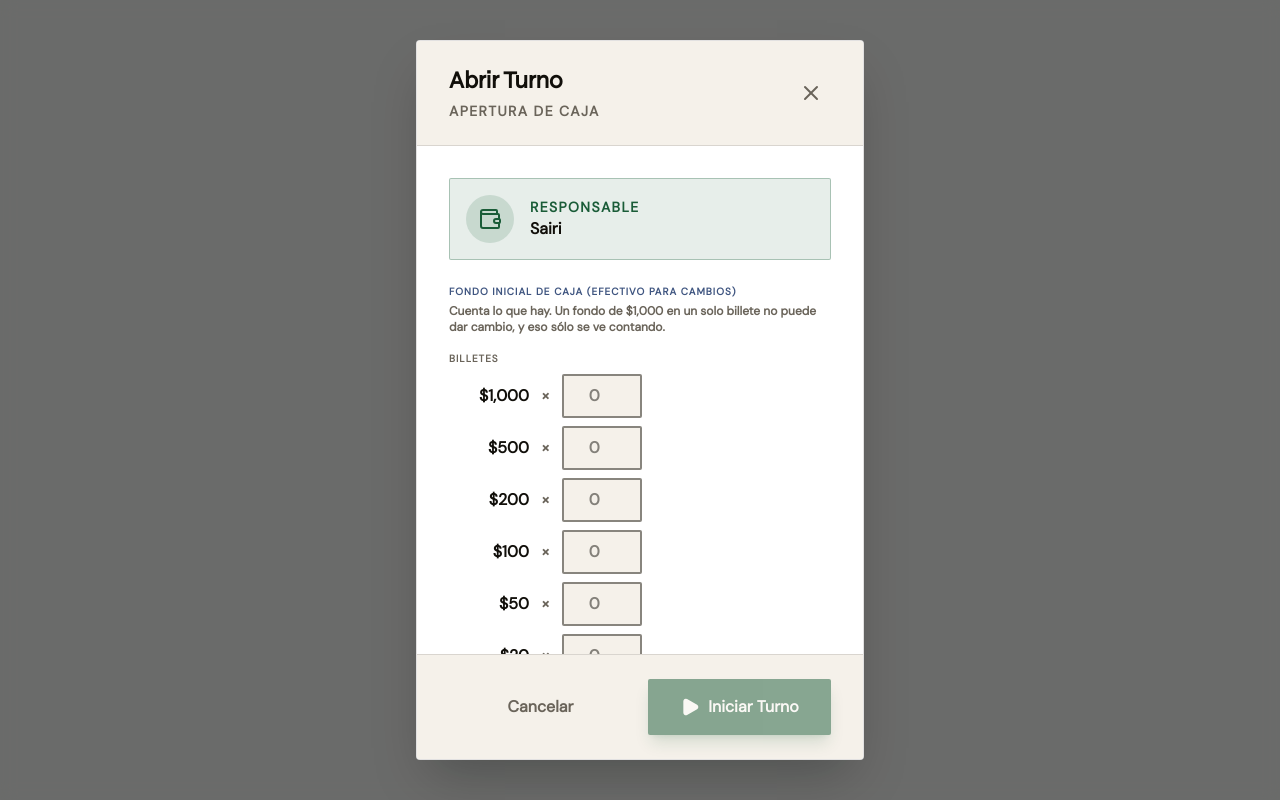
Scenario: AbrirTurnoModal · el fondo se cuenta › LA AFIRMACIÓN: guarda el conteo y el total derivado de él
The image size is (1280, 800).
Type "2" into the number field with placeholder "0" next to "$500".
click(602, 448); type("2")  # box [562,426,642,470]
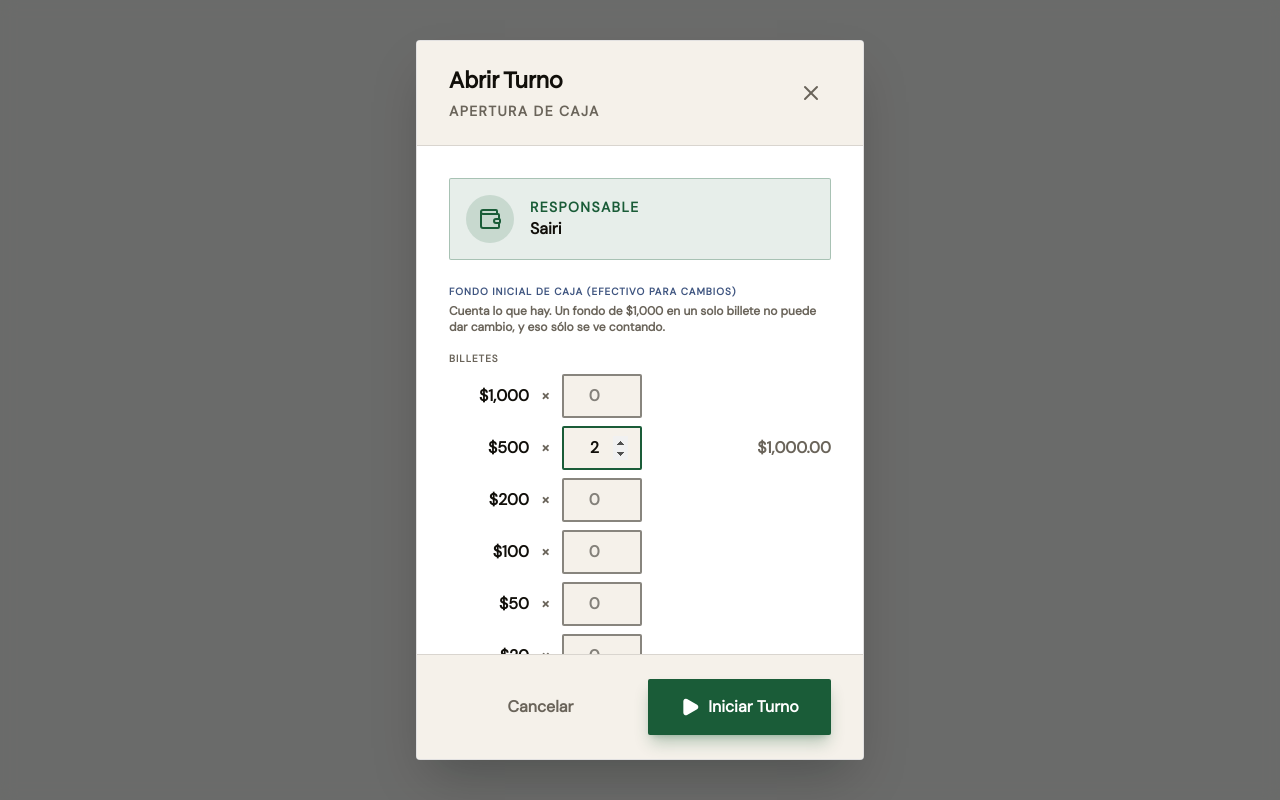
Type "3" into the number field with placeholder "0" next to "$100".
click(602, 552); type("3")  # box [562,530,642,574]
(page scrolled)
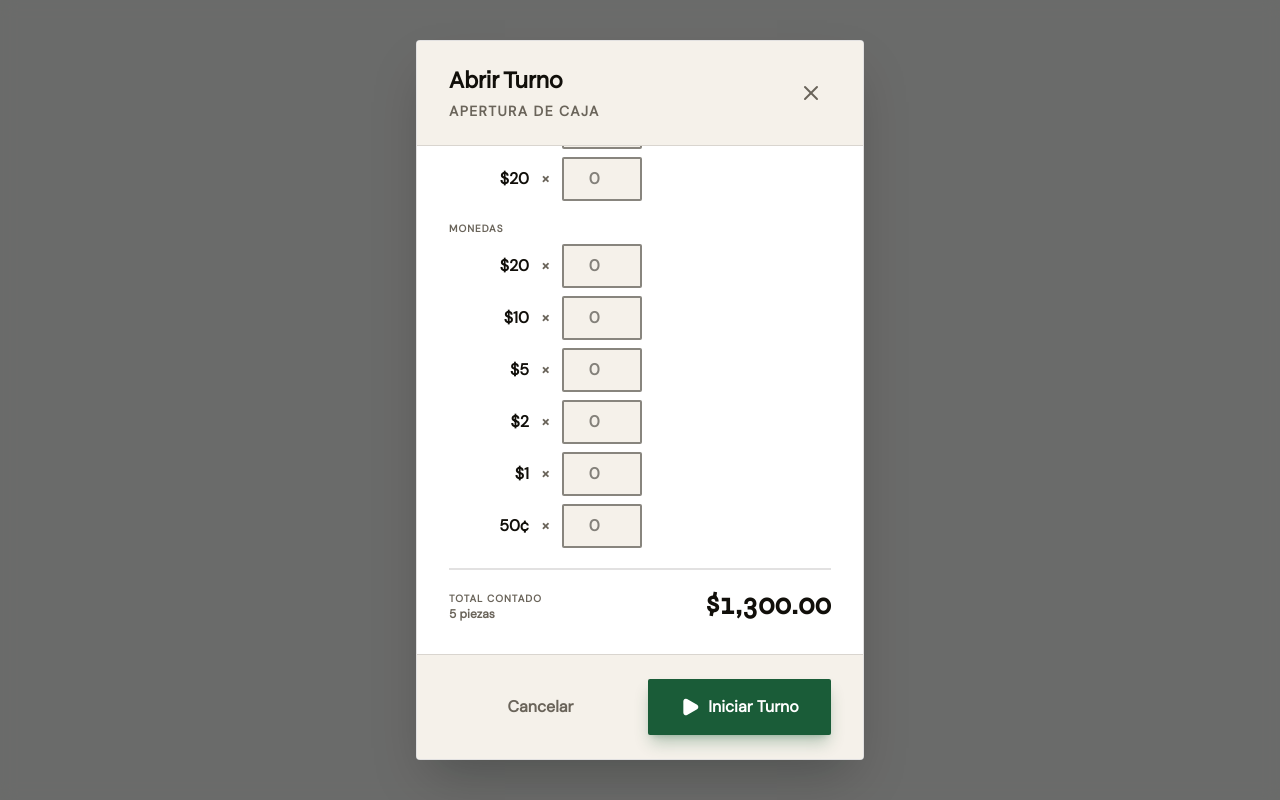
Type "4" into the number field named "Piezas de 50¢".
click(602, 526); type("4")  # box [562,504,642,548]
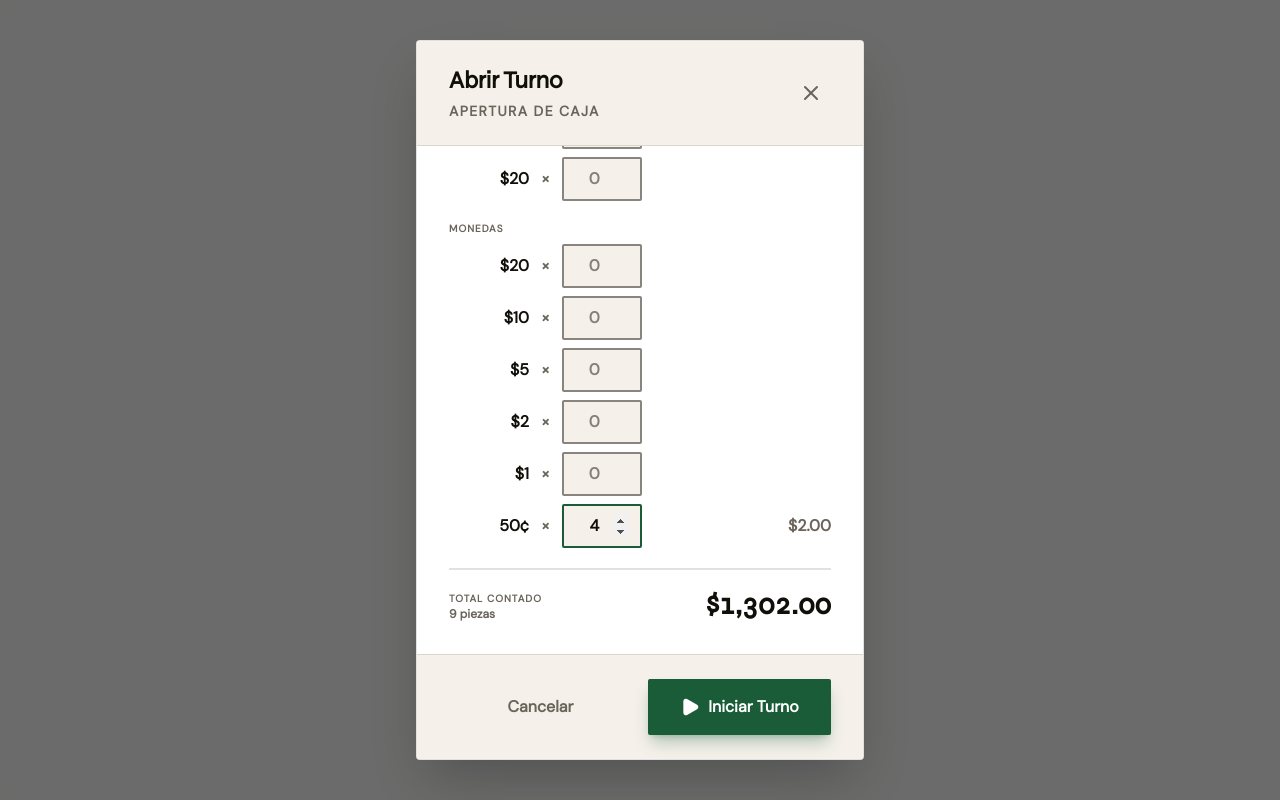
Click the button "Iniciar Turno".
click(740, 707)  # box [648,679,831,735]
(page scrolled)
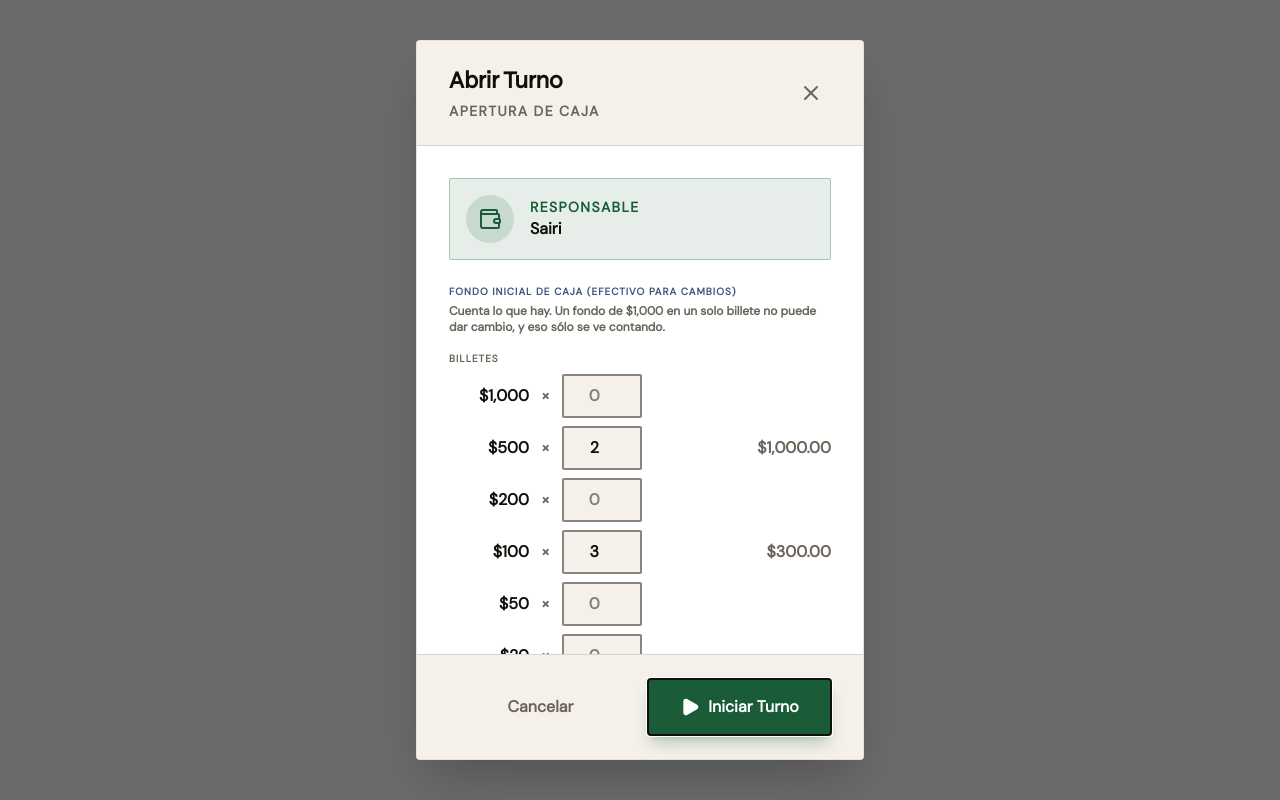
Check: the text "Sairi" is shown, box [530,218,562,239]
